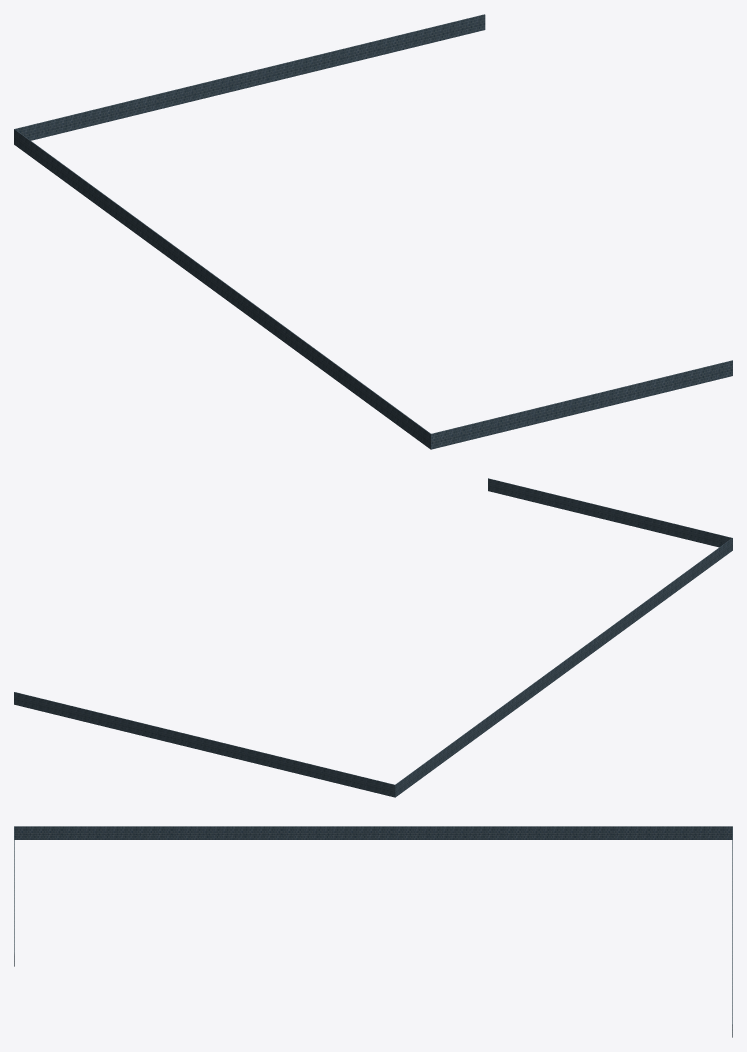
Rendered from BP_OmniNavyGlossyPicket.glb.
3 views of the same model, one above another, from view 1: azimuth 30°, elevation 25°; view 2: azimuth 150°, elevation 25°; view 3: azimuth 270°, elevation 25° (orthographic). The views are drawn at different scales.
Visible parts, largest first — view 1: BP_Omni Navy Glossy Picket; view 2: BP_Omni Navy Glossy Picket; view 3: BP_Omni Navy Glossy Picket.
Part boxes in pixels (bbox=[...]): BP_Omni Navy Glossy Picket: bbox=[14, 14, 732, 449]; BP_Omni Navy Glossy Picket: bbox=[14, 478, 732, 797]; BP_Omni Navy Glossy Picket: bbox=[14, 826, 732, 1037].
Size of the model in its own units: 6.39 by 0.2 by 9.8.
1 material, 1 textured.
